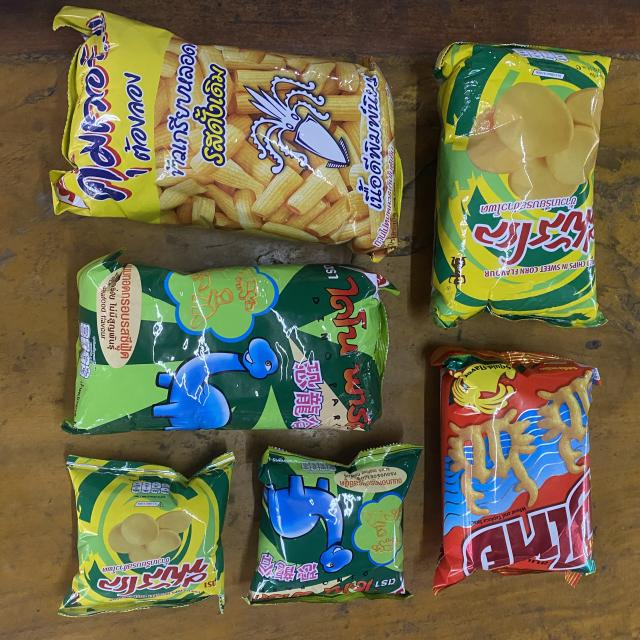plastik: (50, 6, 402, 259), (64, 251, 396, 434), (431, 42, 610, 328), (431, 346, 600, 594), (60, 452, 234, 616), (246, 444, 422, 605)
